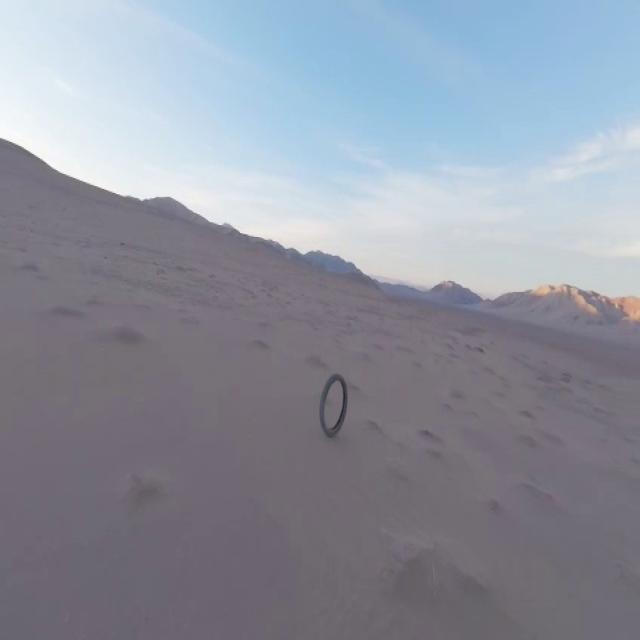Tire: (319, 374, 348, 436)
